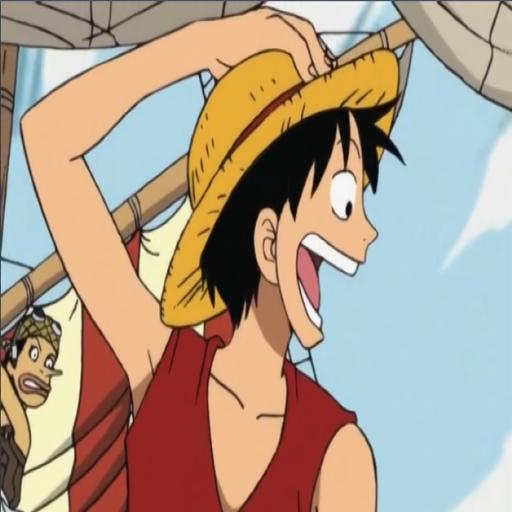Luffy: (30, 1, 401, 512)
Usopp: (1, 309, 68, 512)
